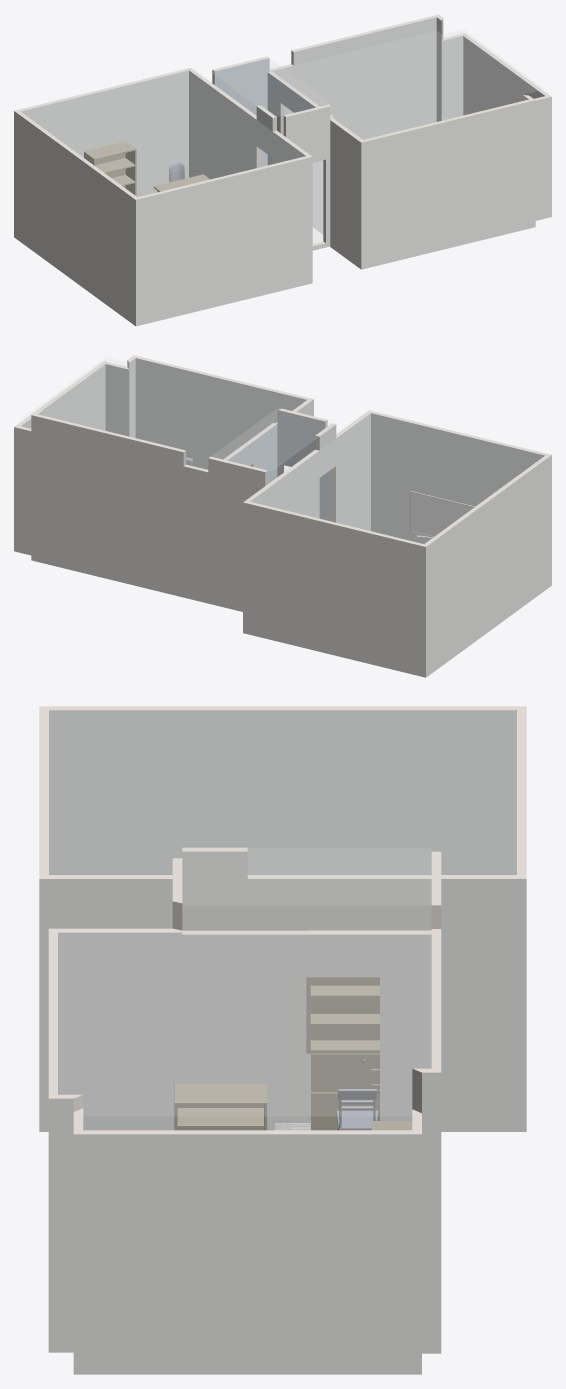
The model's file is vanphong-3_5_2025.glb.
The picture shows the model from 3 angles, top to bottom: view 1: azimuth 30°, elevation 25°; view 2: azimuth 150°, elevation 25°; view 3: azimuth 270°, elevation 25°; orthographic projection. The views are drawn at different scales.
Visible parts, largest first — view 1: wall_13 (×2), wall_9 (×2), ceiling_Living Room_0 (×2), ceiling_Dining Room_0 (×2), wall_16 (×2), wall_15 (×2), wall_4 (×2), wall_2, wall_10, wall_12 (×2), ceiling_Other_0, wall_3 (+10 smaller); view 2: wall_15 (×2), wall_4 (×2), ceiling_Living Room_0 (×2), wall_16 (×2), ceiling_Dining Room_0 (×2), wall_13 (×2), wall_9 (×2), wall_6, ceiling_Other_0, wall_0, wall_10, wall_12 (×2) (+6 smaller); view 3: wall_12 (×2), wall_16 (×2), ceiling_Living Room_0 (×2), ceiling_Dining Room_0 (×2), wall_14 (×2), wall_2, wall_8, wall_10 (×2), ceiling_Other_0, wall_0, wall_11, storage1 (+8 smaller).
Boxes of the visible parts, x1=… form: wall_13 (×2): x1=136, y1=156, x2=312, y2=326; wall_9 (×2): x1=361, y1=99, x2=535, y2=269; ceiling_Living Room_0 (×2): x1=22, y1=71, x2=304, y2=196; ceiling_Dining Room_0 (×2): x1=272, y1=30, x2=543, y2=139; wall_16 (×2): x1=14, y1=111, x2=137, y2=326; wall_15 (×2): x1=269, y1=14, x2=437, y2=139; wall_4 (×2): x1=14, y1=68, x2=190, y2=196; wall_2: x1=330, y1=120, x2=361, y2=269; wall_10: x1=210, y1=86, x2=272, y2=179; wall_12 (×2): x1=463, y1=33, x2=551, y2=115; ceiling_Other_0: x1=211, y1=58, x2=330, y2=117; wall_3: x1=286, y1=106, x2=330, y2=250; wall_15 (×2): x1=31, y1=414, x2=208, y2=603; wall_4 (×2): x1=243, y1=501, x2=425, y2=677; ceiling_Living Room_0 (×2): x1=251, y1=413, x2=543, y2=543; wall_16 (×2): x1=424, y1=455, x2=551, y2=677; ceiling_Dining Room_0 (×2): x1=22, y1=357, x2=305, y2=468; wall_13 (×2): x1=369, y1=410, x2=551, y2=543; wall_9 (×2): x1=134, y1=355, x2=313, y2=469; wall_6: x1=208, y1=458, x2=265, y2=611; ceiling_Other_0: x1=212, y1=410, x2=335, y2=470; wall_0: x1=336, y1=413, x2=370, y2=530; wall_10: x1=272, y1=424, x2=336, y2=522; wall_12 (×2): x1=14, y1=361, x2=105, y2=430; wall_12 (×2): x1=73, y1=1130, x2=421, y2=1374; wall_16 (×2): x1=40, y1=706, x2=525, y2=874; ceiling_Living Room_0 (×2): x1=49, y1=711, x2=516, y2=873; ceiling_Dining Room_0 (×2): x1=58, y1=933, x2=430, y2=1115; wall_14 (×2): x1=182, y1=930, x2=431, y2=1130; wall_2: x1=58, y1=932, x2=182, y2=1130; wall_8: x1=441, y1=879, x2=526, y2=1131; wall_10 (×2): x1=182, y1=847, x2=431, y2=1122; ceiling_Other_0: x1=183, y1=848, x2=430, y2=904; wall_0: x1=39, y1=879, x2=172, y2=1131; wall_11: x1=48, y1=1098, x2=73, y2=1352; storage1: x1=306, y1=929, x2=431, y2=1053.
Size of the model in its own units: 10.19 by 3.22 by 5.06.
61 materials, 3 textured.
